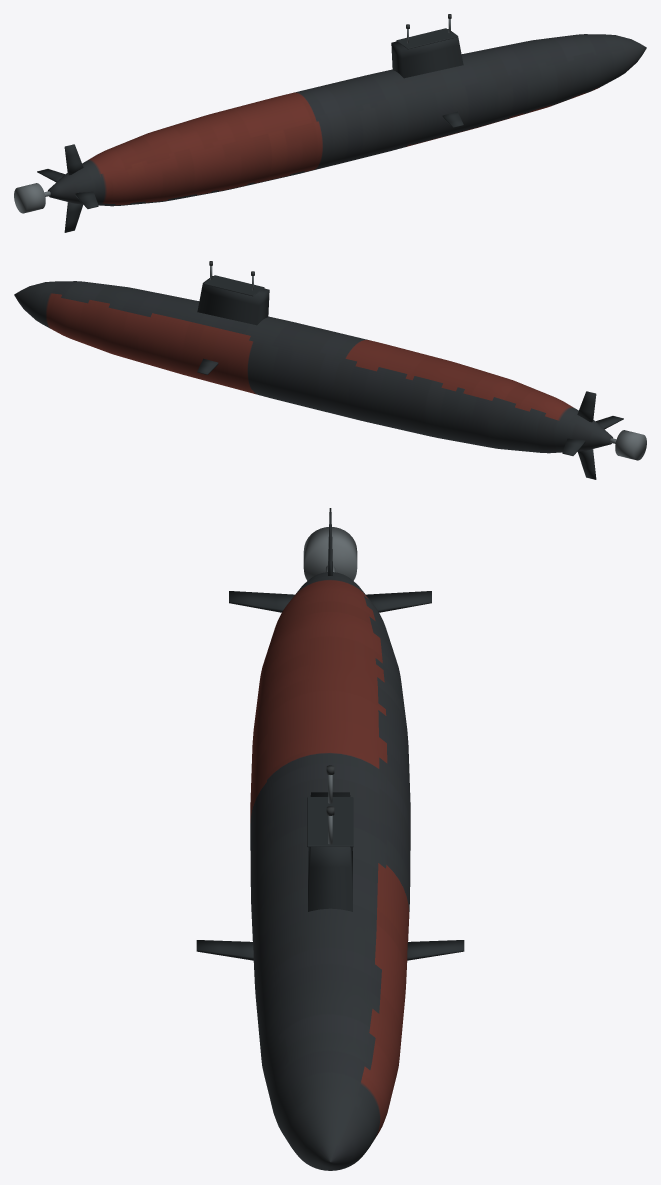
File: UK_SSN_Astute.glb
3 renders of one model, top to bottom at view 1: azimuth 30°, elevation 25°; view 2: azimuth 150°, elevation 25°; view 3: azimuth 270°, elevation 25°, orthographic. The views are drawn at different scales.
Visible parts, largest first — view 1: UK_SSN_Astute_LOD0; view 2: UK_SSN_Astute_LOD0; view 3: UK_SSN_Astute_LOD0.
Boxes of the visible parts, box(x1,y1,x2,y2) form: UK_SSN_Astute_LOD0: box(14, 14, 646, 232); UK_SSN_Astute_LOD0: box(14, 261, 646, 479); UK_SSN_Astute_LOD0: box(196, 508, 464, 1170).
Size of the model in its own units: 102 by 19.24 by 18.82.
6 materials, 1 textured.
